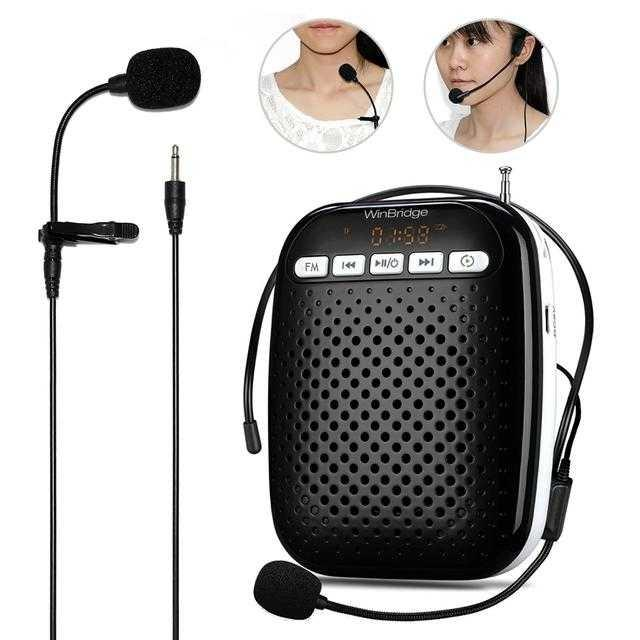microphone: (118, 47, 201, 110), (253, 561, 323, 619), (442, 80, 478, 105), (338, 64, 363, 86)
